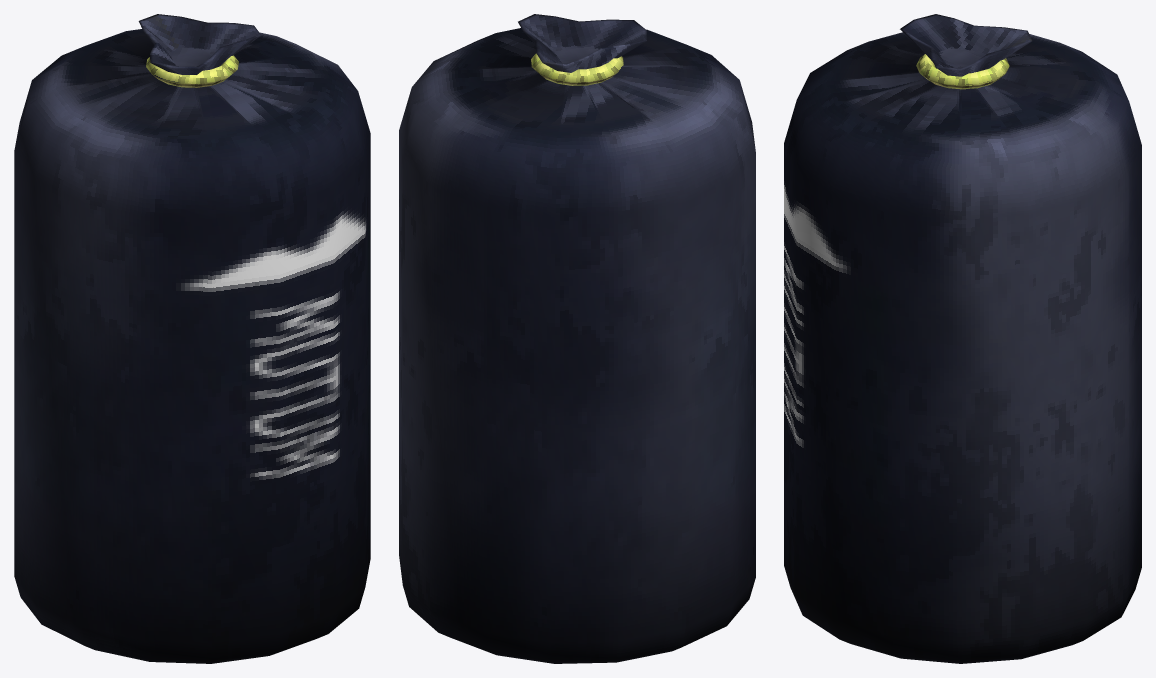
The model's file is Bag.glb.
The picture shows the model from 3 angles, left to right: view 1: azimuth 30°, elevation 25°; view 2: azimuth 150°, elevation 25°; view 3: azimuth 270°, elevation 25°; orthographic projection.
Visible parts, largest first — view 1: Bag.001; view 2: Bag.001; view 3: Bag.001.
Part boxes in pixels (left/top/right/bottom): Bag.001: left=14, top=14, right=370, bottom=663; Bag.001: left=399, top=14, right=755, bottom=663; Bag.001: left=784, top=14, right=1141, bottom=663.
Bounding box in the file's own units: 0.252 × 0.4323 × 0.252.
Materials: 1 (1 with a texture image).
